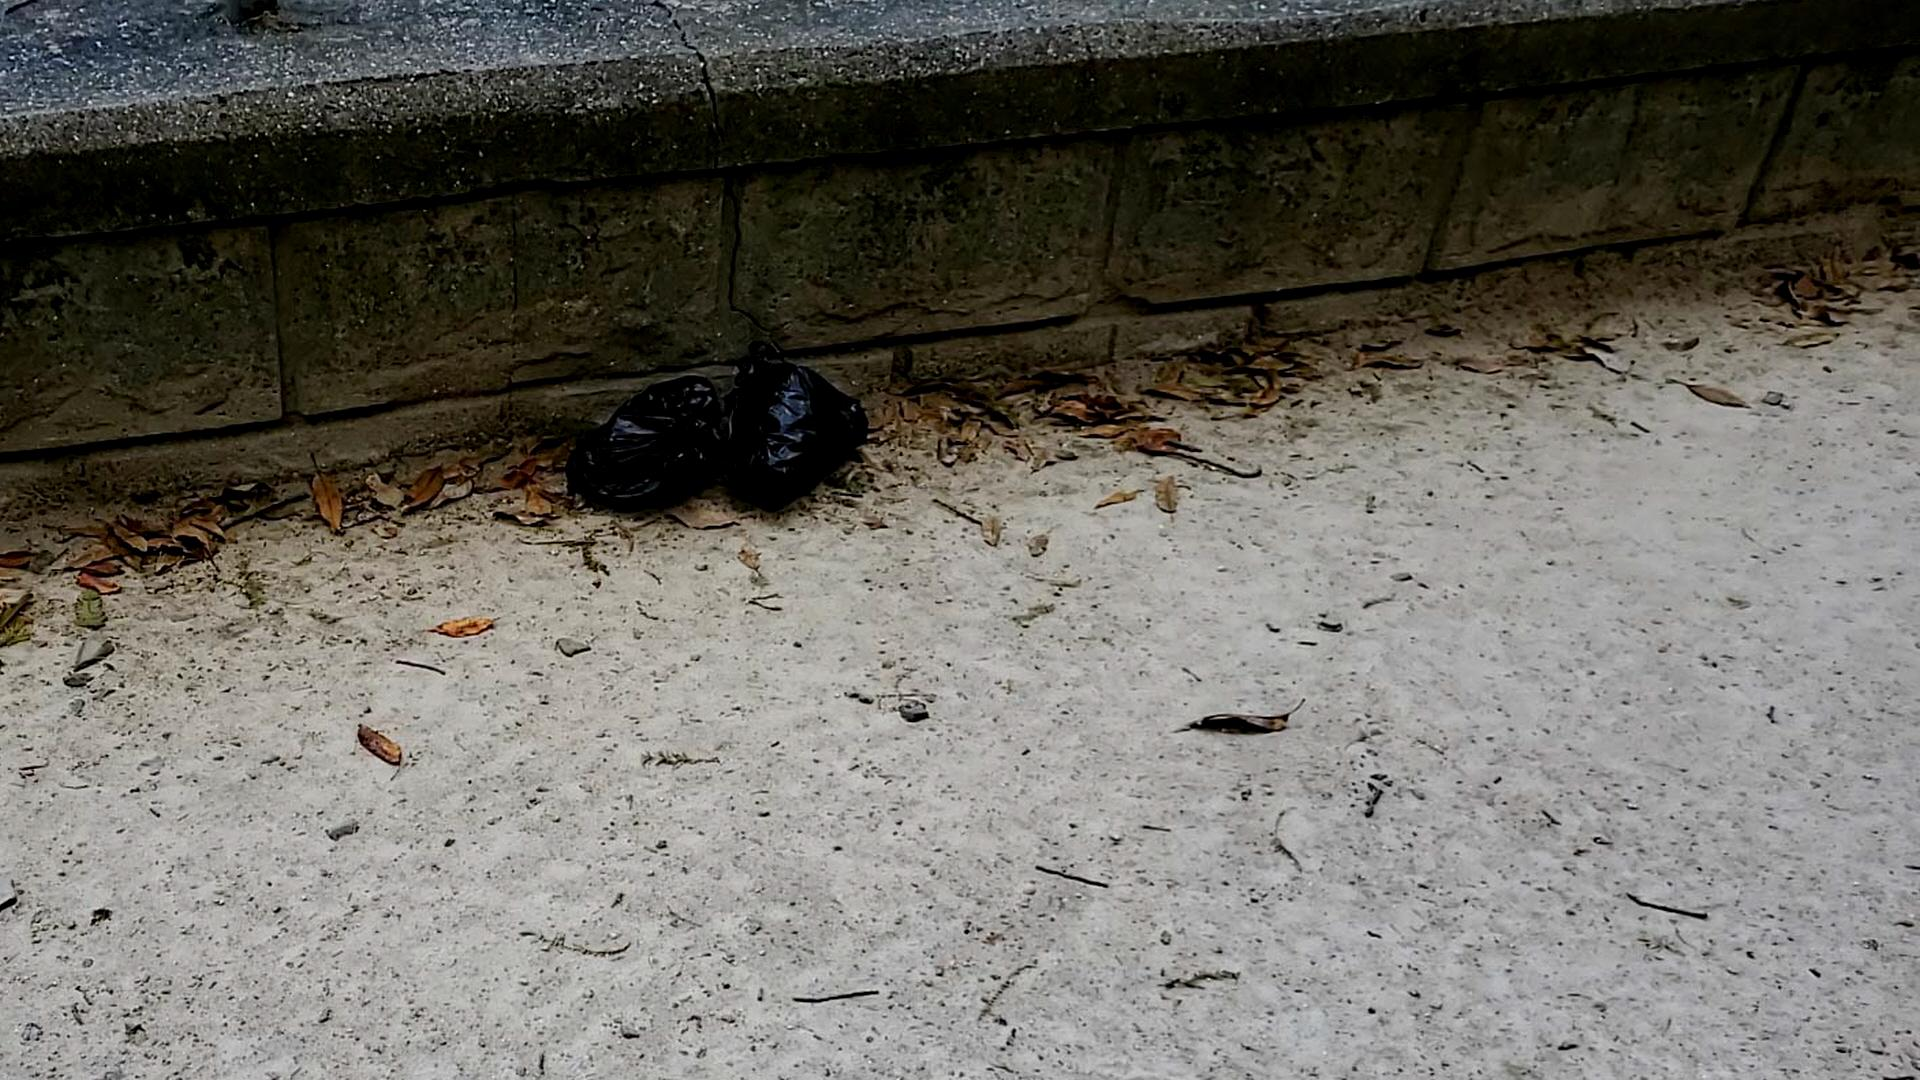black_bag: (549, 363, 727, 531), (720, 342, 869, 513)
